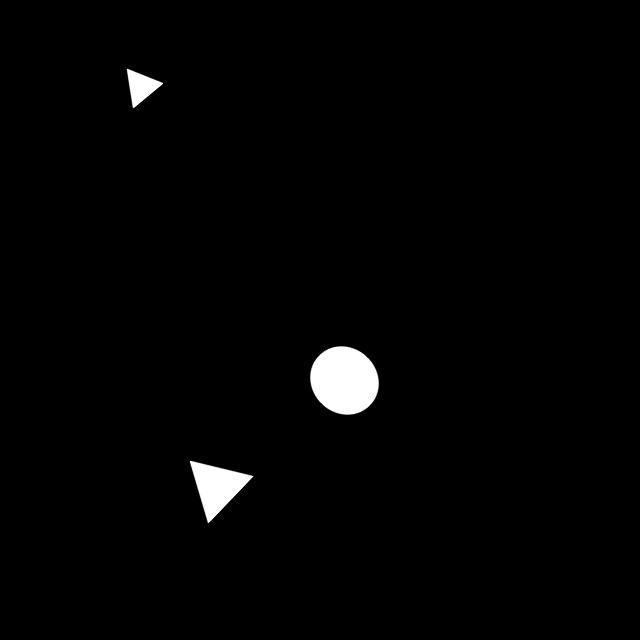Circle: (294, 333, 392, 430)
Triangle: (176, 453, 266, 535), (114, 63, 170, 119)
